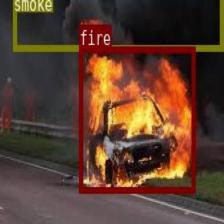fire: (79, 46, 194, 192)
smoke: (12, 0, 223, 50)
